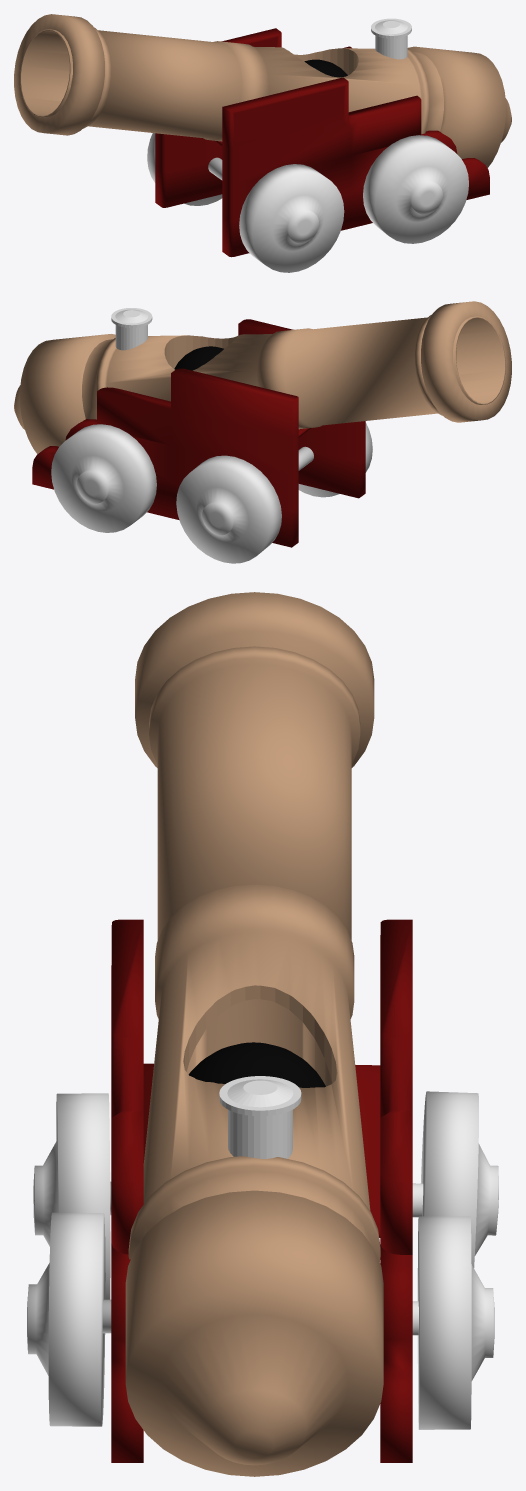
Rendered from cannon_and_ball_Nov21.glb.
3 renders of one model, top to bottom at view 1: azimuth 30°, elevation 25°; view 2: azimuth 150°, elevation 25°; view 3: azimuth 270°, elevation 25°, orthographic. The views are drawn at different scales.
Visible parts, largest first — view 1: maincanon, support, leftBackWheel, leftFrontWheel, button, rightFrontWheel, cannonBall; view 2: maincanon, support, rightBackWheel, rightFrontWheel, button, cannonBall, leftFrontWheel; view 3: maincanon, support, leftBackWheel, rightBackWheel, rightFrontWheel, leftFrontWheel, button, cannonBall.
Boxes of the visible parts, box(x1,y1,x2,y2) form: maincanon: box(14, 14, 511, 168); support: box(155, 28, 489, 257); leftBackWheel: box(363, 135, 468, 243); leftFrontWheel: box(239, 164, 344, 272); button: box(371, 18, 411, 59); rightFrontWheel: box(147, 133, 222, 205); cannonBall: box(304, 59, 347, 77); maincanon: box(14, 301, 511, 453); support: box(32, 319, 365, 547); rightBackWheel: box(51, 424, 156, 532); rightFrontWheel: box(176, 455, 281, 563); button: box(111, 308, 152, 350); cannonBall: box(174, 346, 223, 370); leftFrontWheel: box(298, 422, 372, 497); maincanon: box(125, 592, 383, 1476); support: box(111, 919, 412, 1462); leftBackWheel: box(27, 1212, 105, 1426); rightBackWheel: box(417, 1216, 494, 1429); rightFrontWheel: box(420, 1091, 498, 1267); leftFrontWheel: box(33, 1093, 110, 1299); button: box(219, 1076, 301, 1158); cannonBall: box(188, 1042, 325, 1087).
Size of the model in its own units: 0.3029 by 0.1591 by 0.1297.
